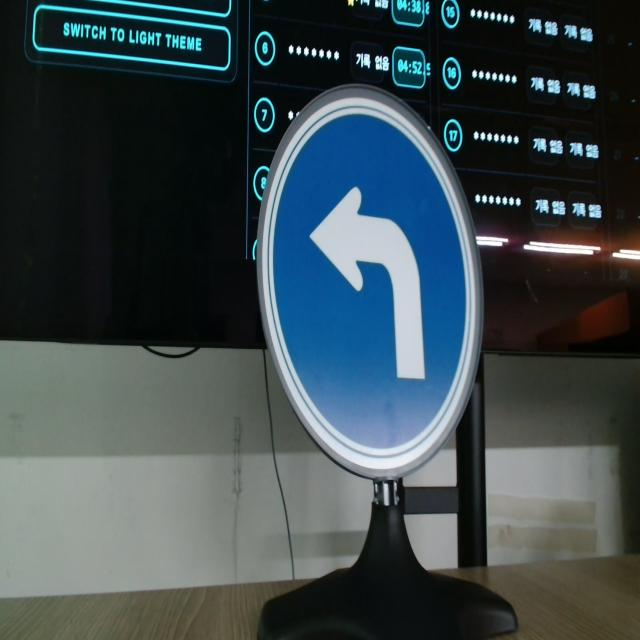left_direction: (250, 78, 487, 489)
